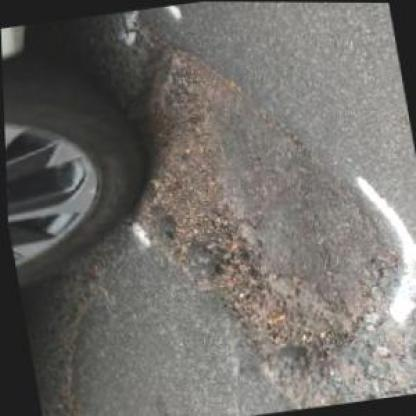pothole: (105, 21, 369, 377)
